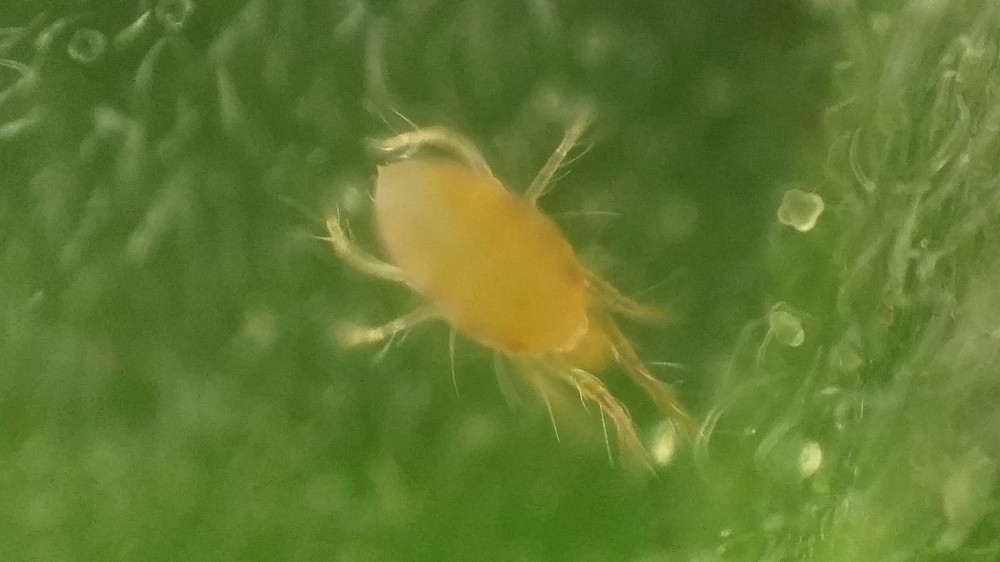Aracnido Rojo: (298, 101, 745, 499)
